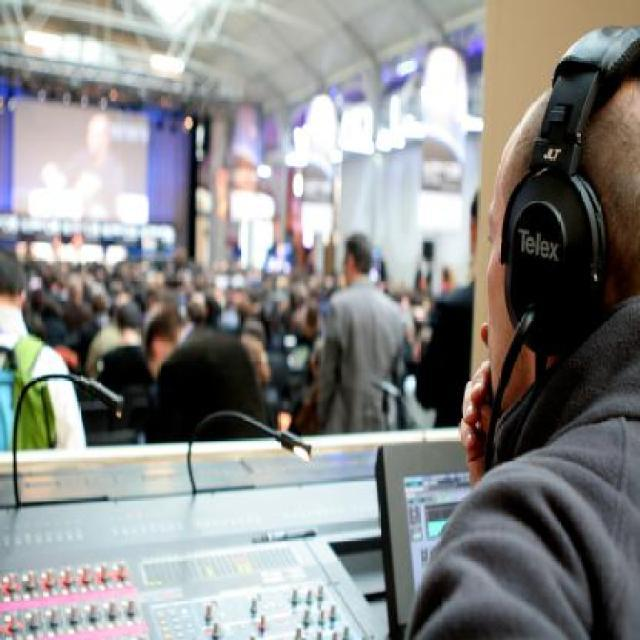earphone: (495, 12, 640, 355)
